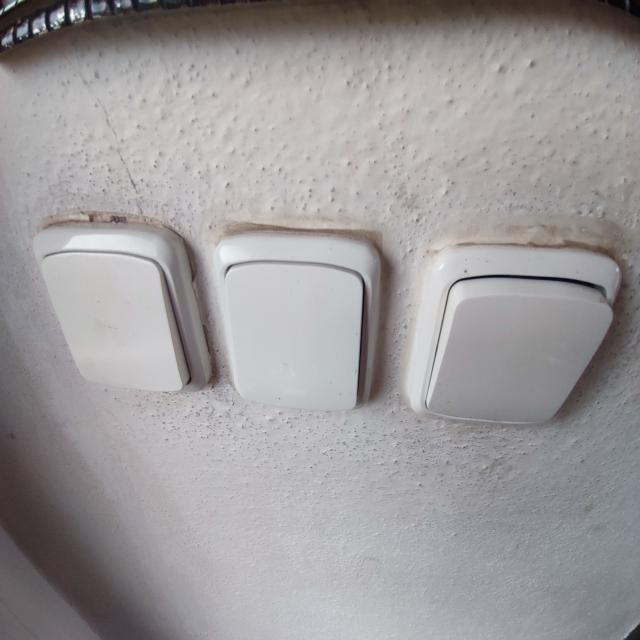house switch: (409, 241, 622, 427), (32, 223, 213, 394), (215, 231, 382, 411)
